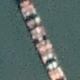ship: (0, 0, 30, 40)
